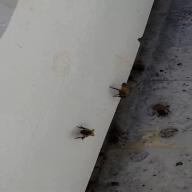Bee: (72, 120, 104, 144)
